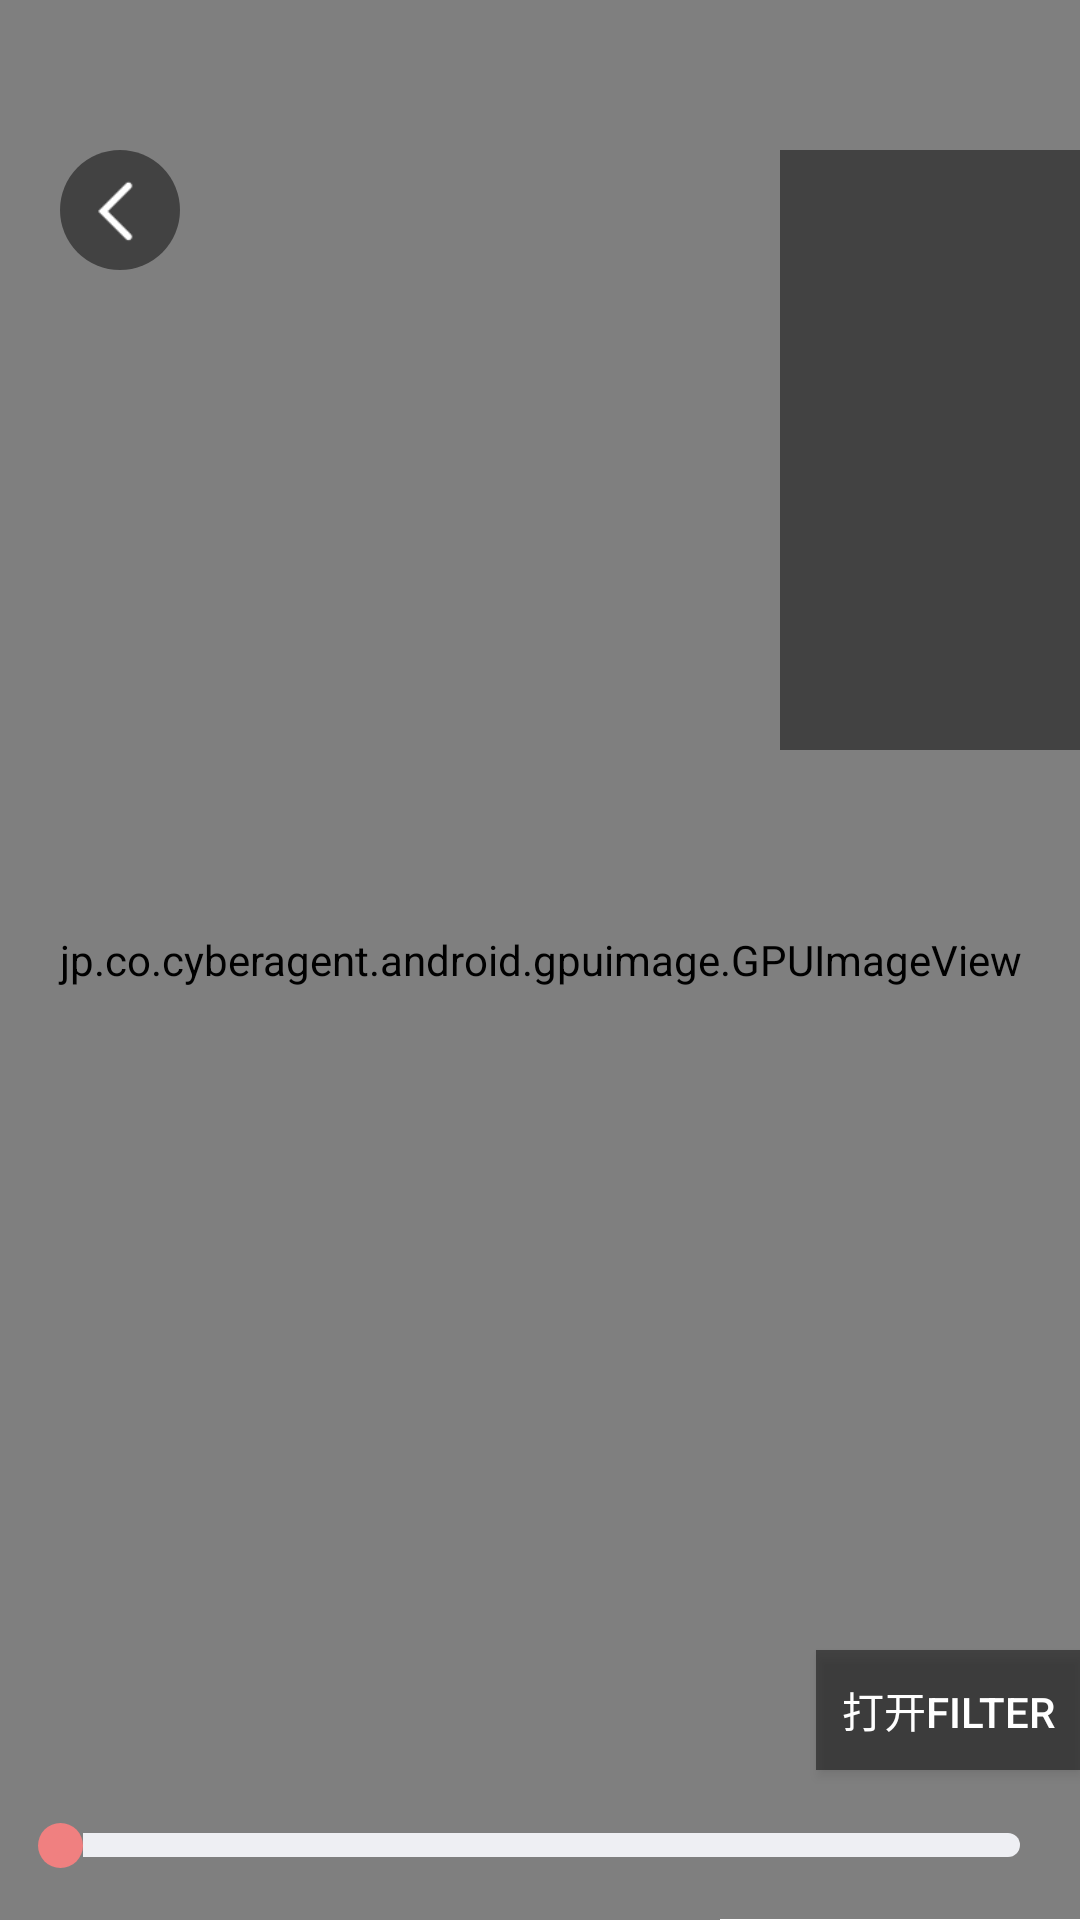

Where icons sit on this 1080px×1920px app screen, as (x1, y1, x2, y2):
back: (60, 150, 180, 270)
